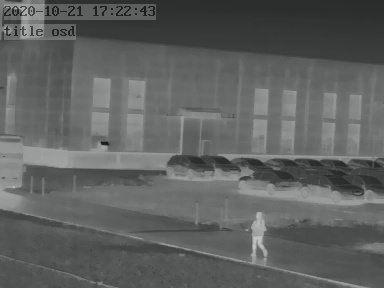person: (250, 209, 269, 261)
vehicle: (300, 174, 361, 200), (239, 169, 304, 191), (164, 153, 213, 179), (203, 153, 242, 177), (350, 173, 383, 200), (232, 155, 270, 171), (261, 155, 296, 169), (348, 155, 380, 169), (295, 156, 324, 169), (319, 156, 348, 169)
